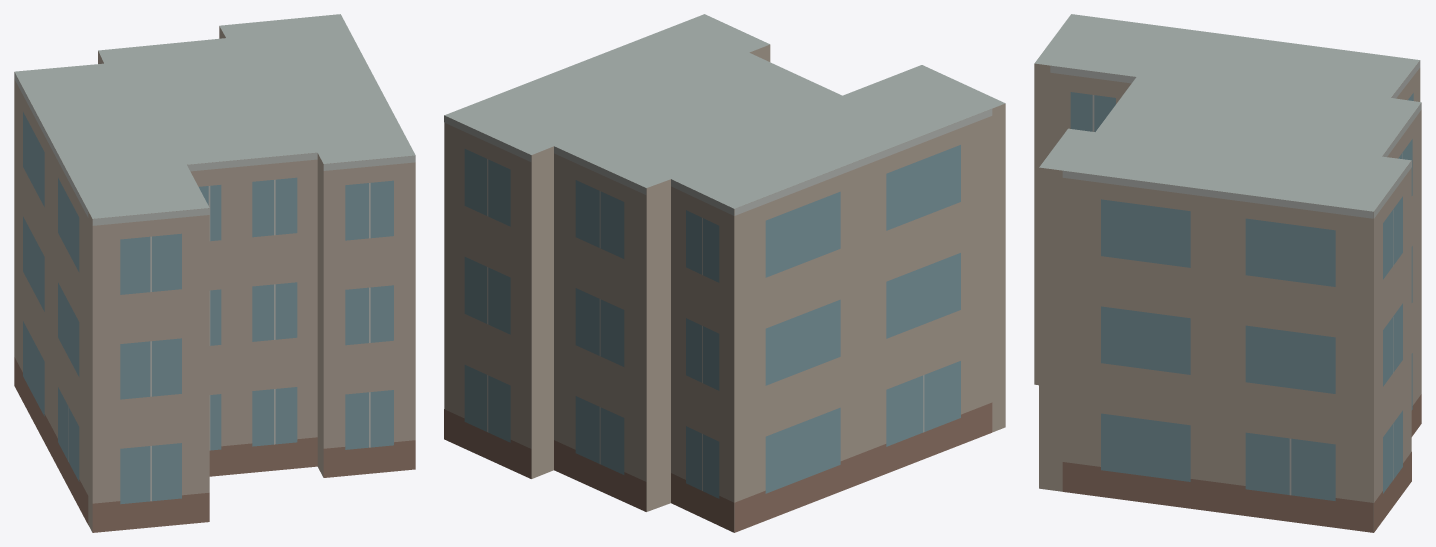
The model's file is survey-upis-32472016.glb.
The picture shows the model from 3 angles, left to right: view 1: azimuth 30°, elevation 25°; view 2: azimuth 150°, elevation 25°; view 3: azimuth 270°, elevation 25°; orthographic projection. The views are drawn at different scales.
Visible parts, largest first — view 1: survey-upis-32472016.tmp; view 2: survey-upis-32472016.tmp; view 3: survey-upis-32472016.tmp.
Boxes of the visible parts, x1,y1,x2,y2 form: survey-upis-32472016.tmp: [14, 14, 415, 532]; survey-upis-32472016.tmp: [444, 14, 1005, 532]; survey-upis-32472016.tmp: [1034, 14, 1421, 532].
Size of the model in its own units: 14.53 by 11 by 12.03.
